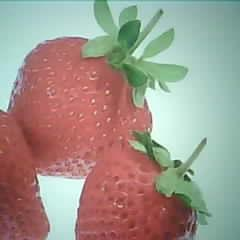straw-ripe: (7, 36, 155, 176), (77, 149, 197, 240)
